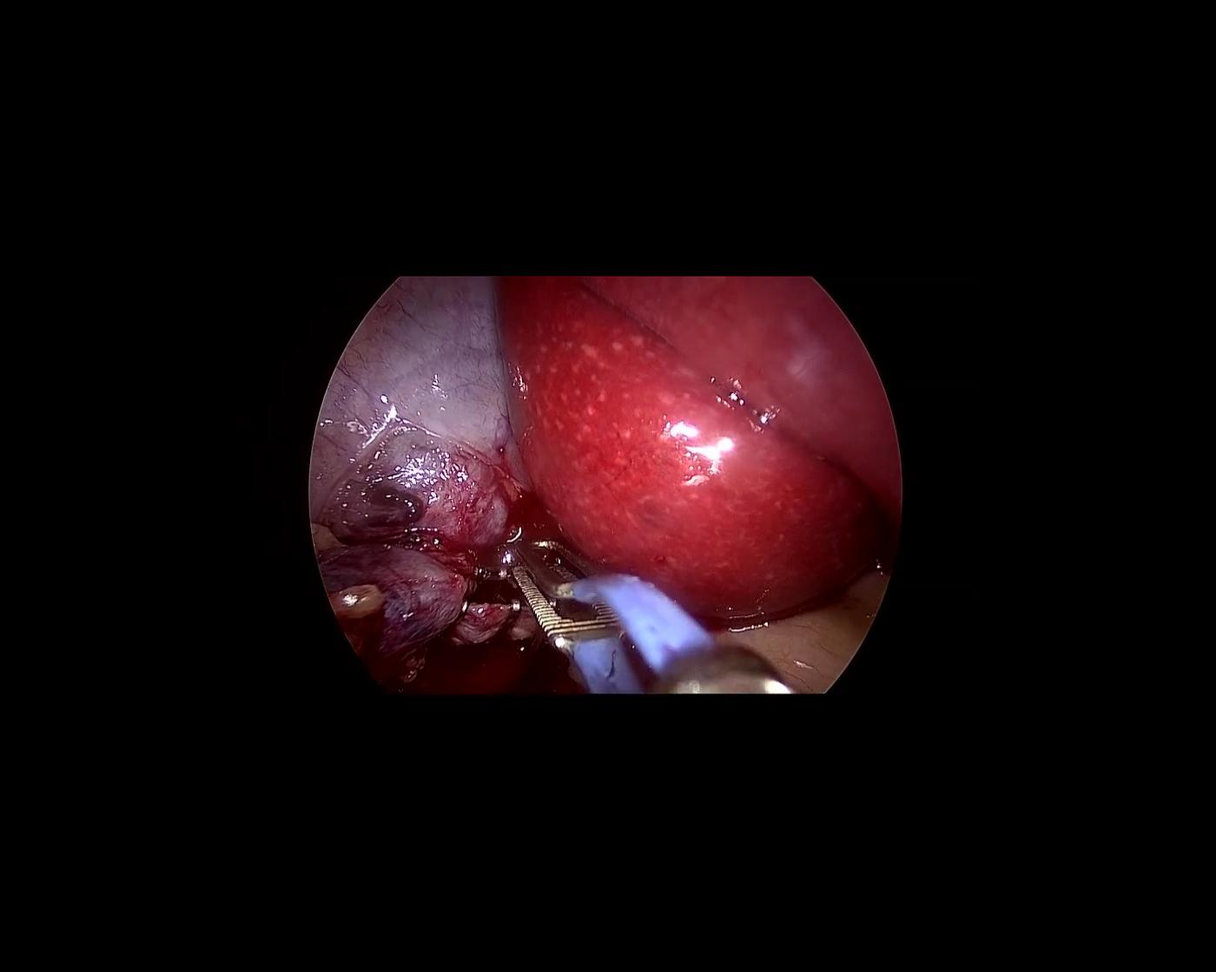Allis: (471, 512, 811, 791)
Gallbladder: (309, 276, 528, 653)
Liver: (495, 274, 899, 625)
